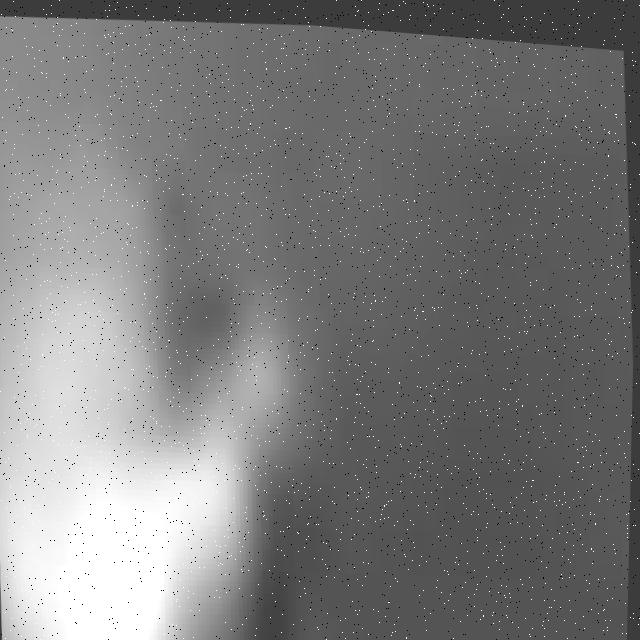person: (1, 130, 290, 640)
